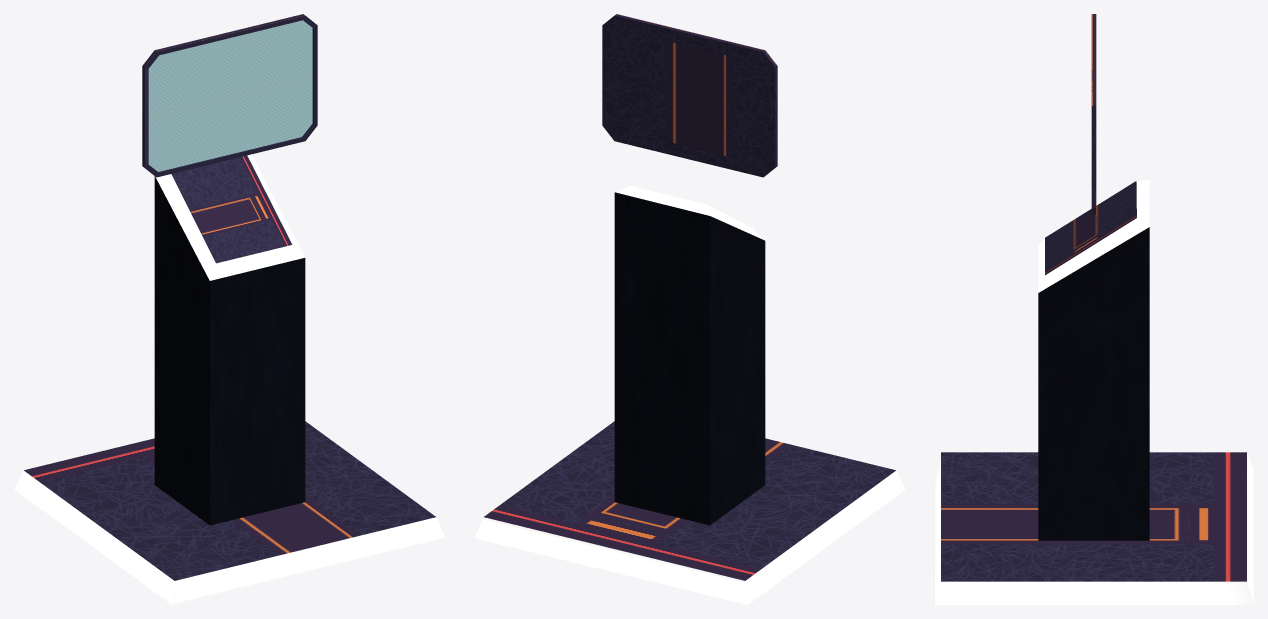
Rendered from Signbook_Art.glb.
3 renders of one model, left to right at view 1: azimuth 30°, elevation 25°; view 2: azimuth 150°, elevation 25°; view 3: azimuth 270°, elevation 25°, orthographic.
Parts seen in each view (by area): view 1: Signbook_Art; view 2: Signbook_Art; view 3: Signbook_Art.
Part boxes in pixels (x1,y1,x2,y2): Signbook_Art: (14, 14, 445, 604); Signbook_Art: (474, 14, 905, 604); Signbook_Art: (934, 14, 1253, 604).
Size of the model in its own units: 1.03 by 1.73 by 1.03.
Materials: 5 (5 with a texture image).
